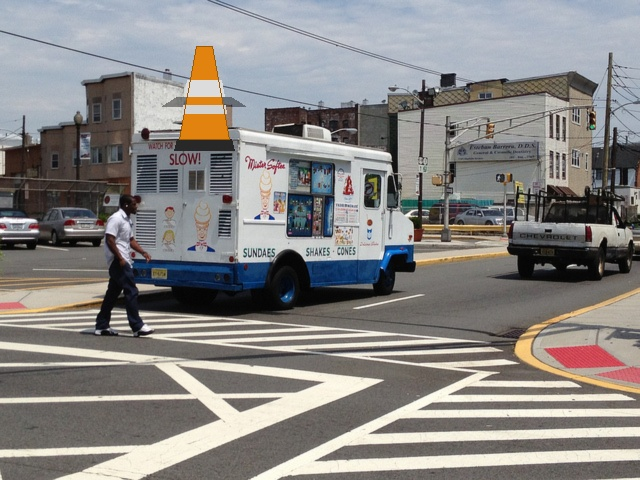traffic-cone: (174, 46, 234, 150)
